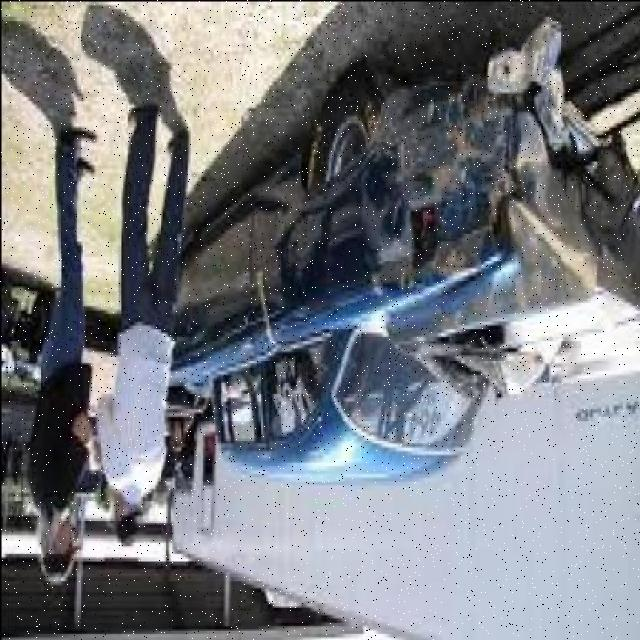damage: (365, 21, 640, 401)
